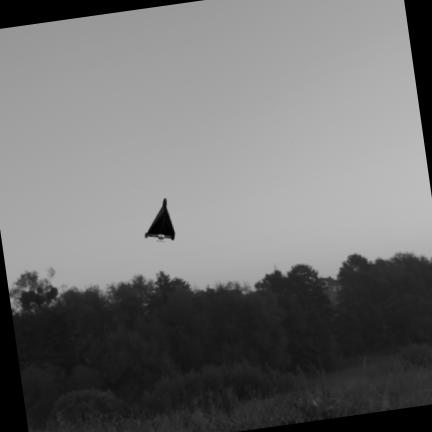Shahed: (145, 198, 174, 241)
